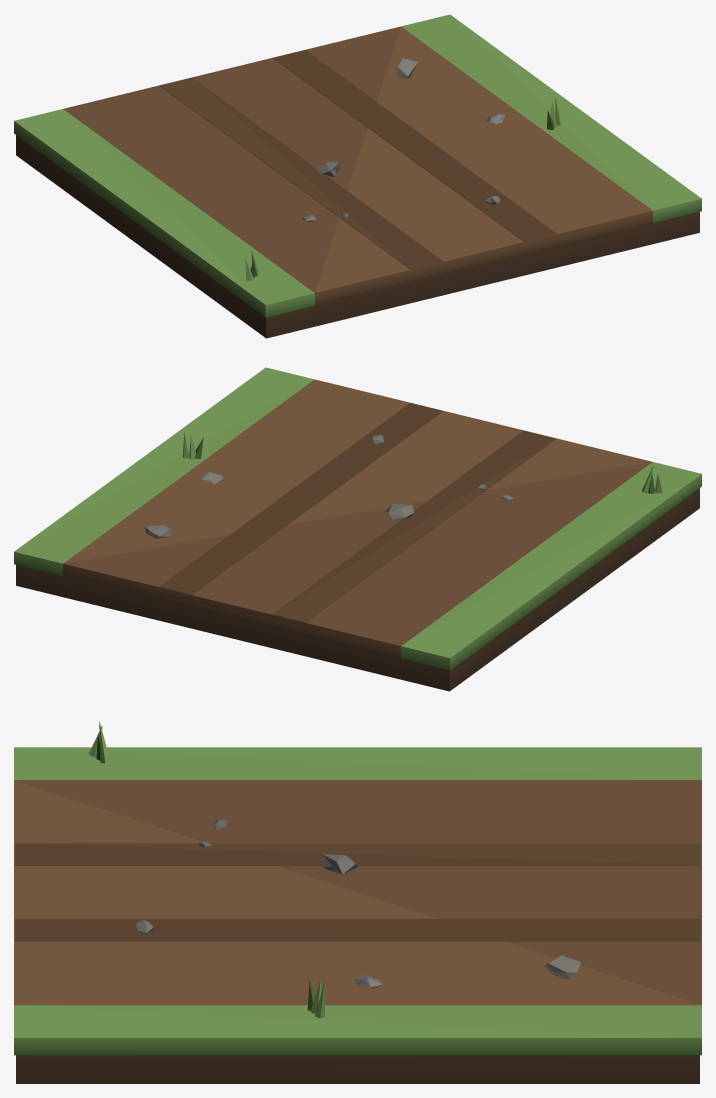
The model's file is road-dirt-straight.glb.
3 views of the same model, one above another, from view 1: azimuth 30°, elevation 25°; view 2: azimuth 150°, elevation 25°; view 3: azimuth 270°, elevation 25° (orthographic). The views are drawn at different scales.
Visible parts, largest first — view 1: road_dirt_straight; view 2: road_dirt_straight; view 3: road_dirt_straight.
Part boxes in pixels (x1,y1,x2,y2): road_dirt_straight: [14, 14, 701, 338]; road_dirt_straight: [14, 367, 701, 691]; road_dirt_straight: [14, 721, 701, 1083].
Bounding box in the file's own units: 4 × 0.5467 × 4.
